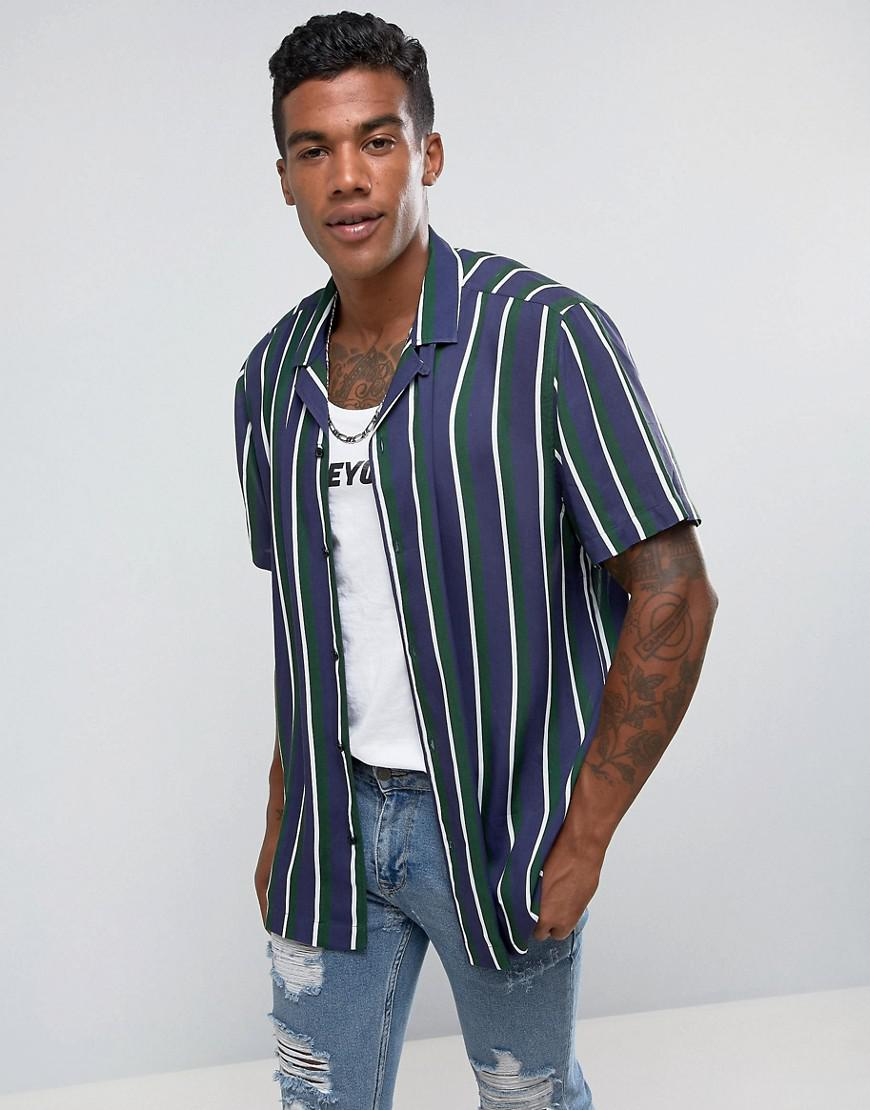teeshirt: (222, 235, 705, 954)
